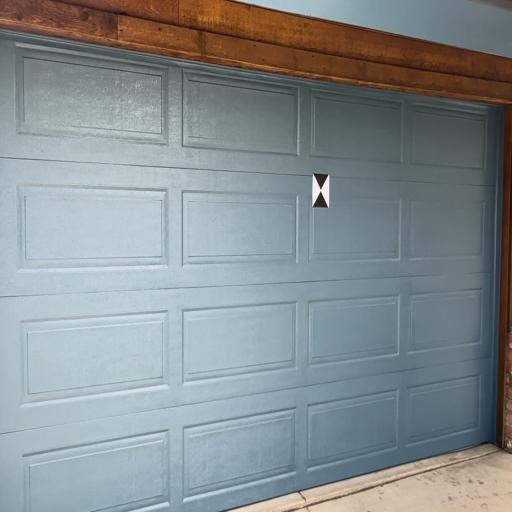target: (312, 173, 330, 208)
